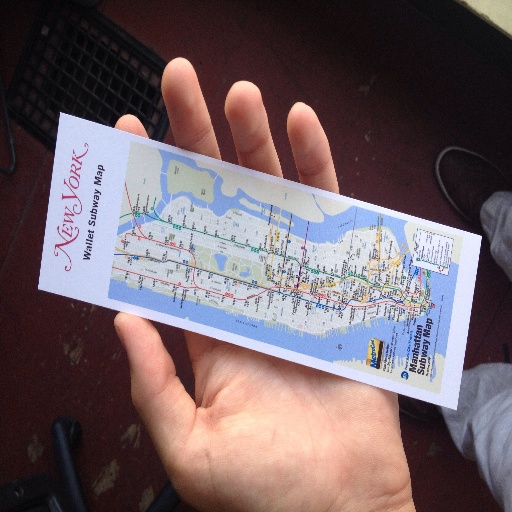hand: (109, 50, 412, 511)
